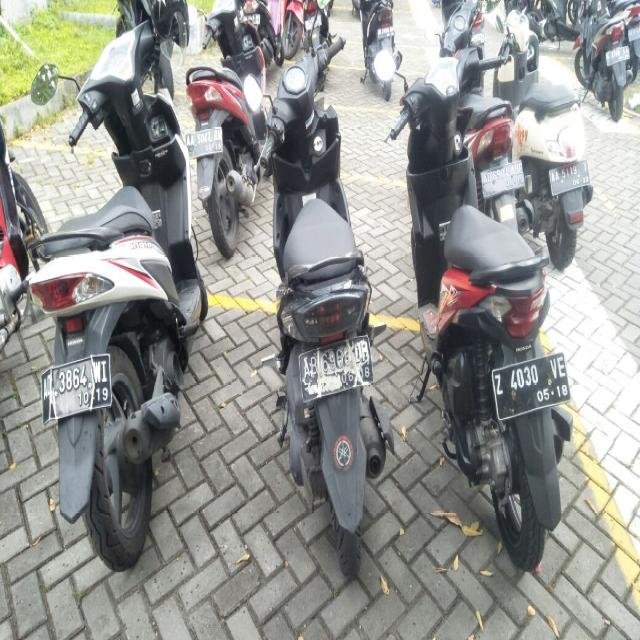plate: (40, 350, 110, 426), (298, 335, 373, 405), (493, 353, 569, 420), (549, 153, 590, 197), (484, 161, 526, 197), (182, 125, 222, 155), (606, 42, 630, 66)
